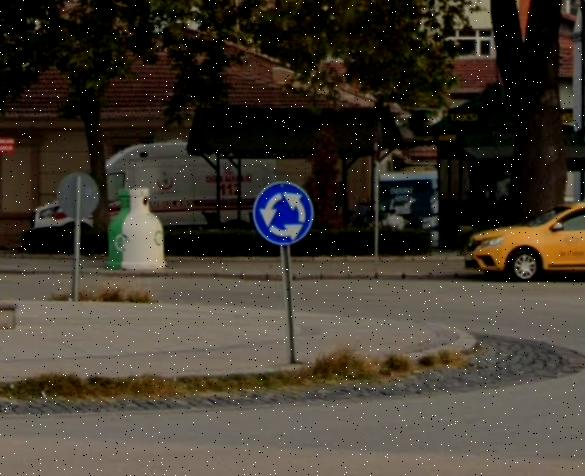crossroads: (252, 179, 315, 243)
